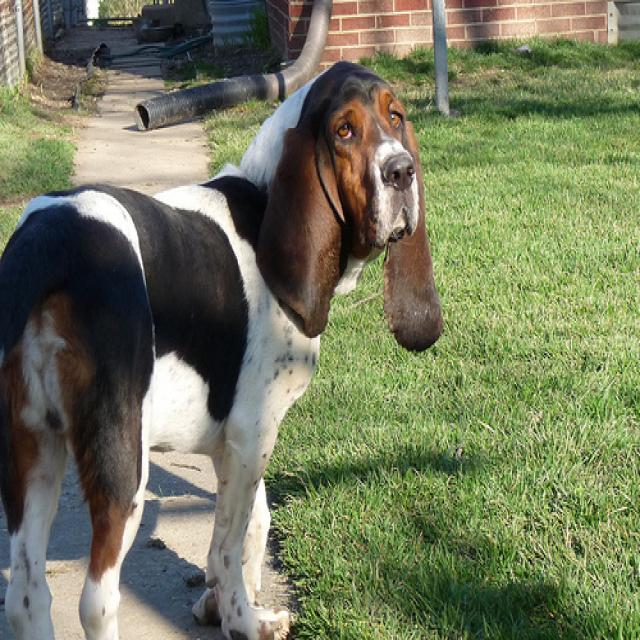dog-basset_hound: (1, 53, 449, 637)
